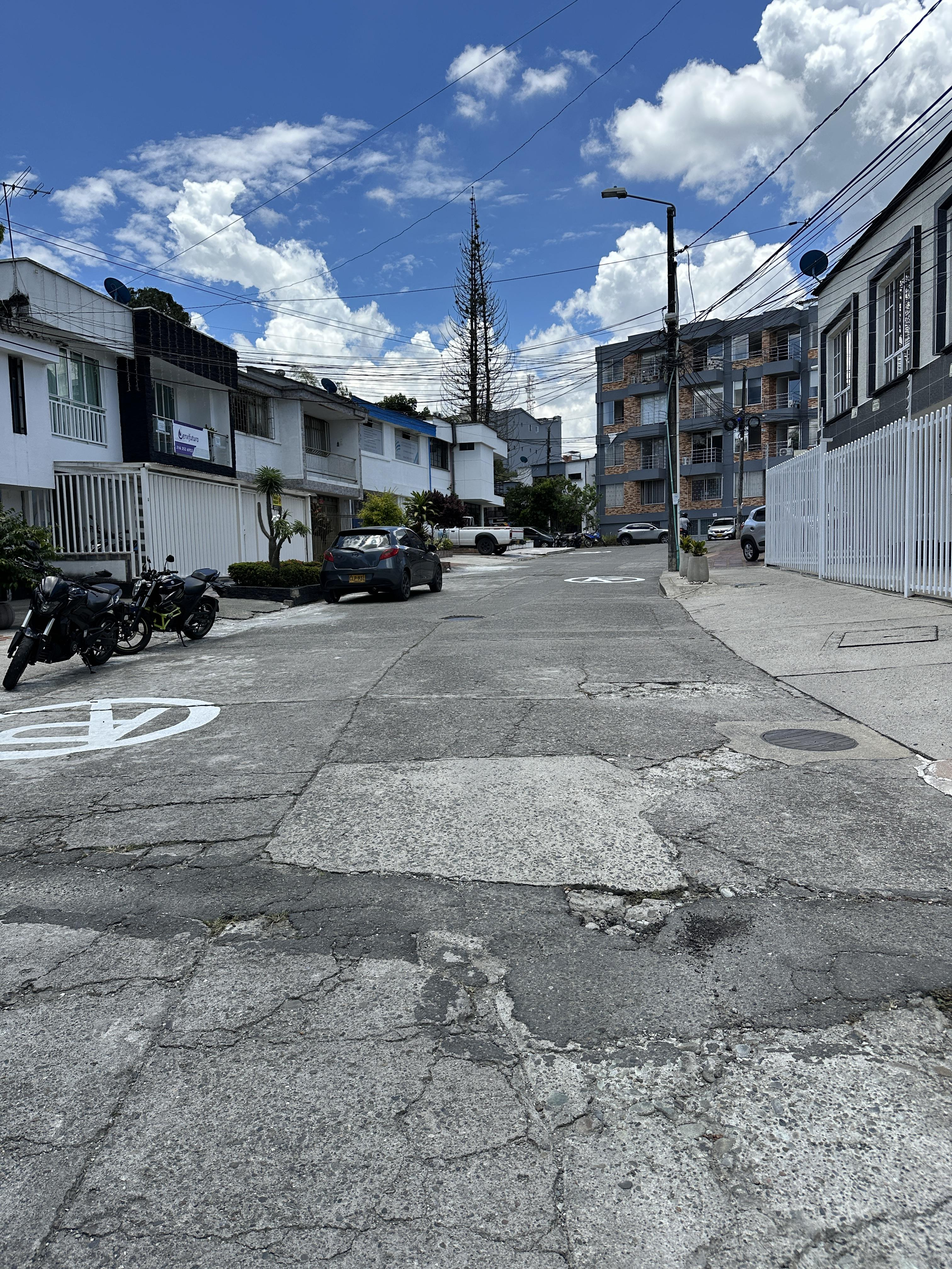bache: (417, 979, 583, 1076), (561, 872, 724, 943), (207, 913, 299, 946), (0, 978, 58, 1011), (441, 615, 484, 621)
grieta: (0, 762, 326, 879), (157, 935, 375, 1052), (661, 824, 950, 907), (59, 916, 212, 997), (421, 1076, 544, 1168), (264, 850, 558, 888), (630, 737, 789, 776), (36, 920, 130, 981), (576, 669, 739, 700), (396, 1060, 439, 1143)
registro: (761, 728, 858, 752)
